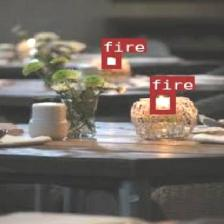fire: (149, 90, 174, 113), (100, 52, 119, 68)
